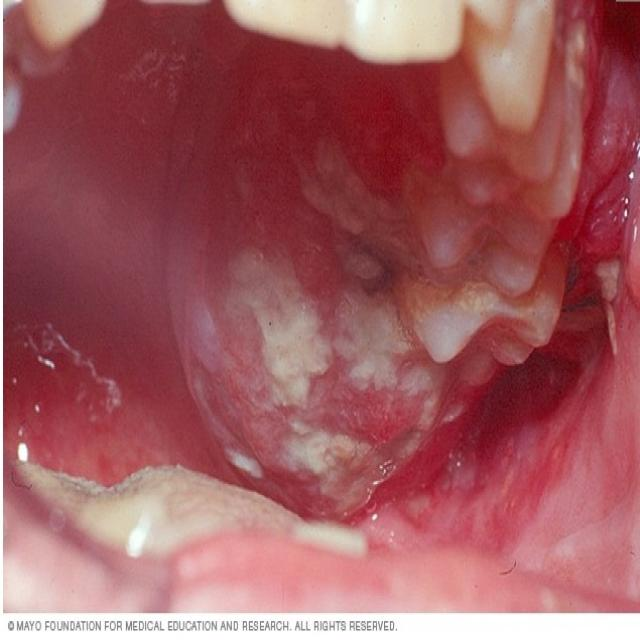left_region: (4, 1, 637, 607)
